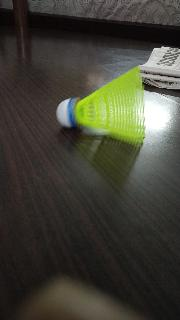shuttlecock: (56, 66, 144, 146)
